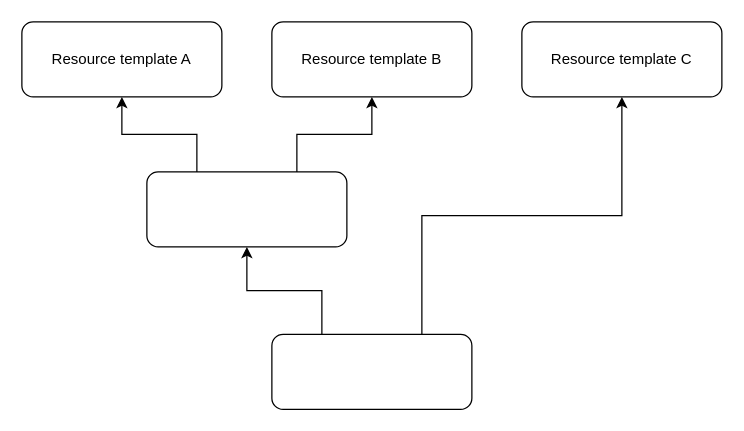
Some shapes in this 744 by 431 pixel diagram are drawn without their labels. The shapes that lost their labels are listed below. From the top down, each one's centre as x and y in pixels, then its label:
pixel 246 209: Combined A+B+D (local)
pixel 371 371: Combined A+B+C+D+E (local)
